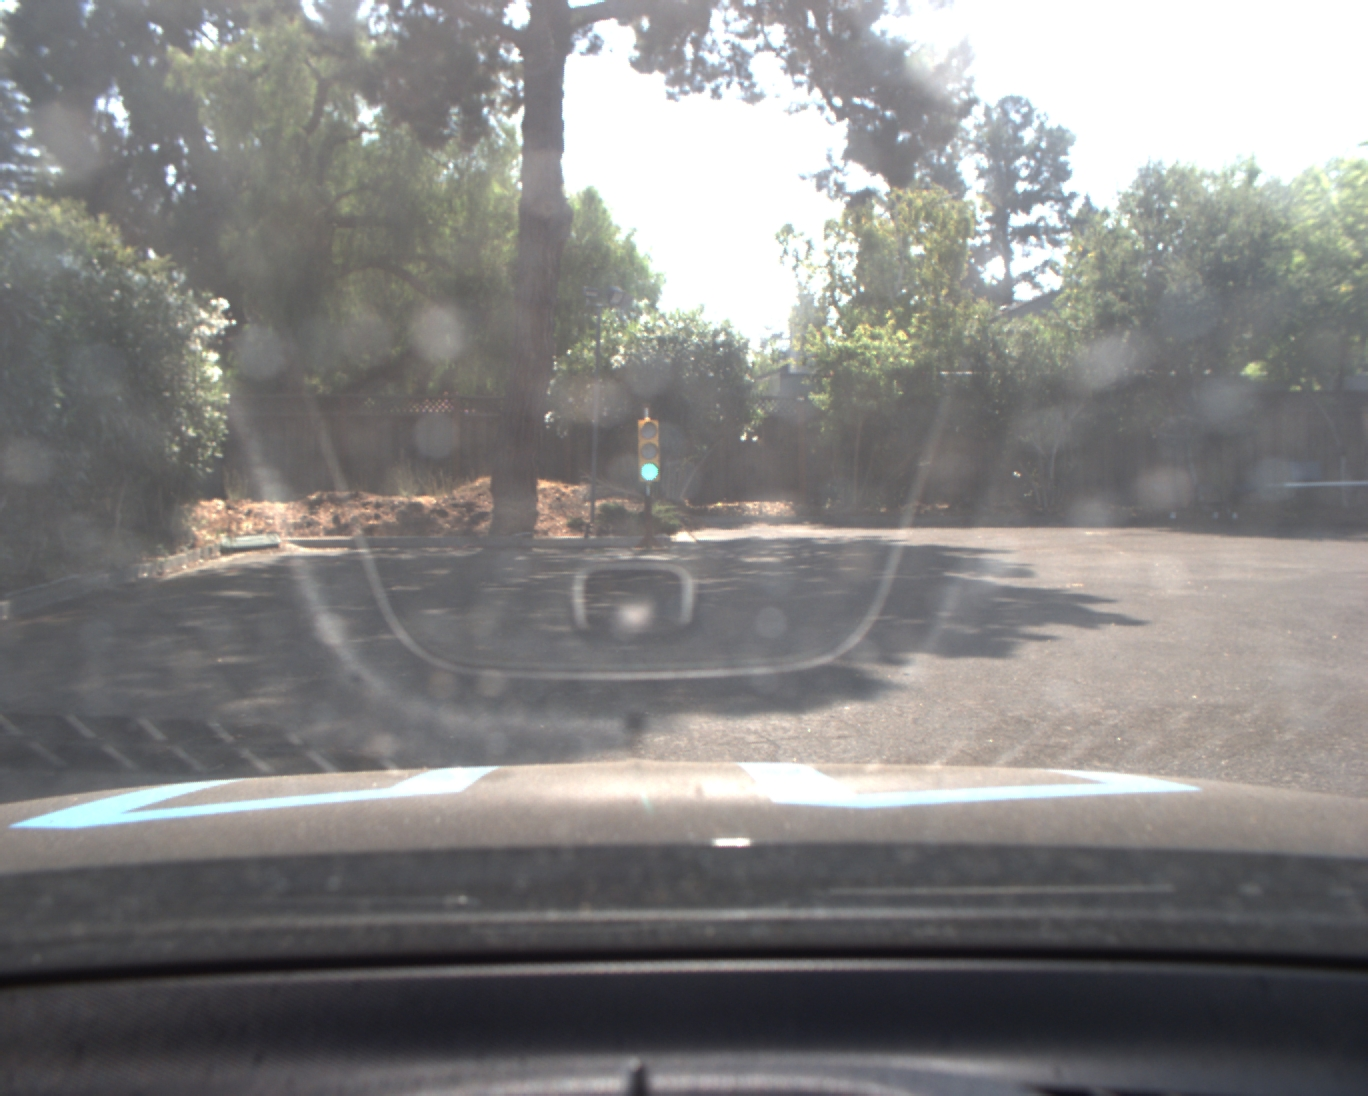green: (635, 422, 663, 489)
